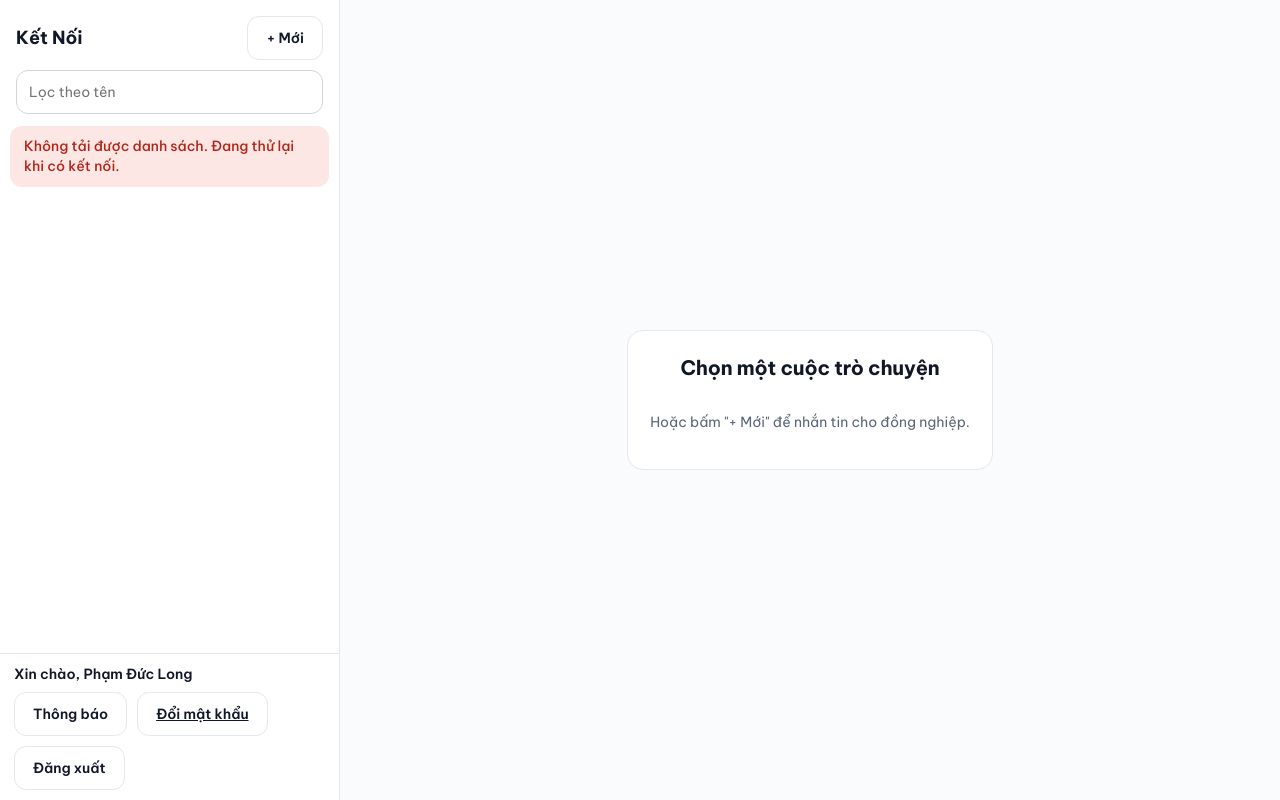
Test: session behaviour › keeps the session when logout gets a 5xx
Click the button "Đăng xuất": (69, 768) [14,746,125,790]
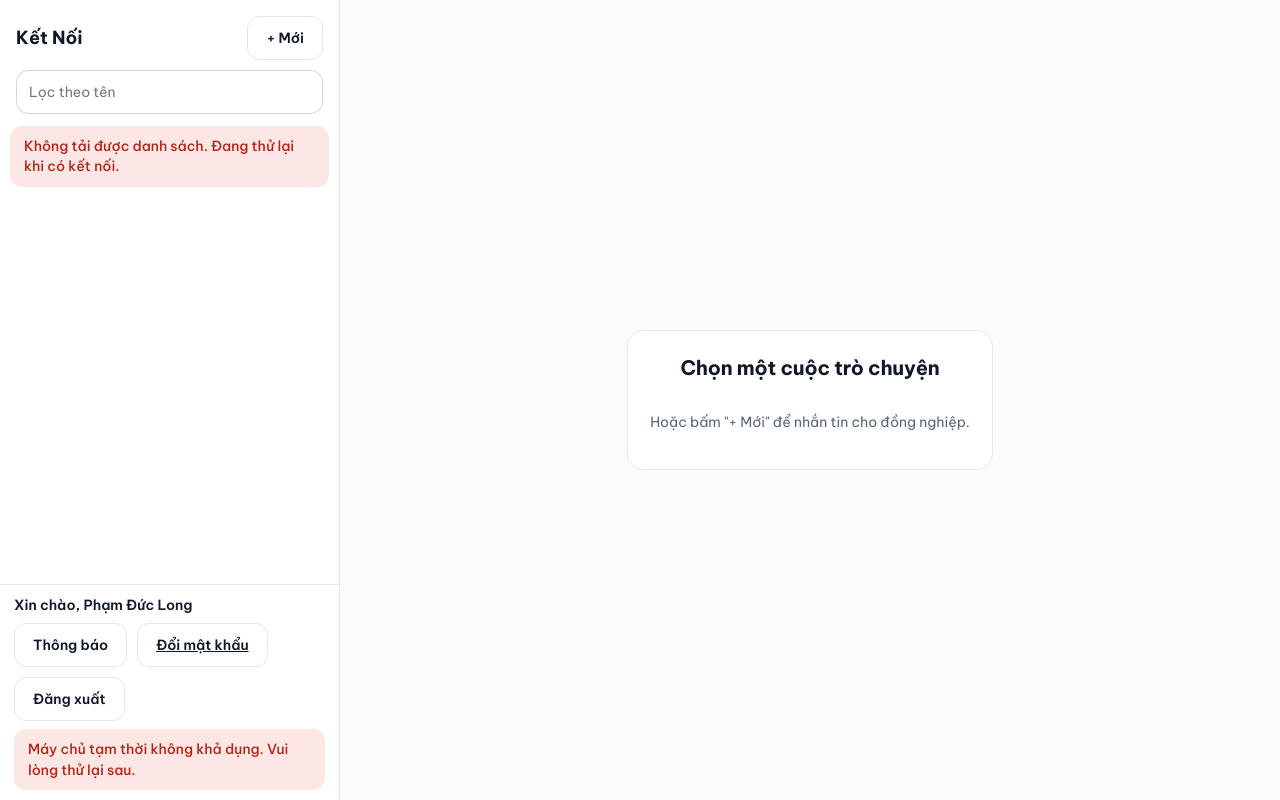
expect the text "Xin chào, Phạm Đức Long" is shown: met, box [14,596,192,614]
expect the message shows "Máy chủ tạm thời không khả dụng": met, box [28,740,288,779]
